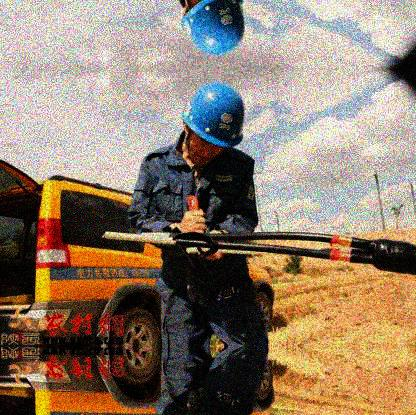helmet: (182, 82, 243, 164)
